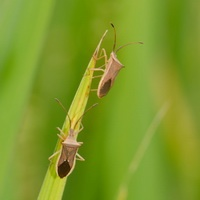insect: (97, 23, 143, 97), (49, 112, 84, 177)
